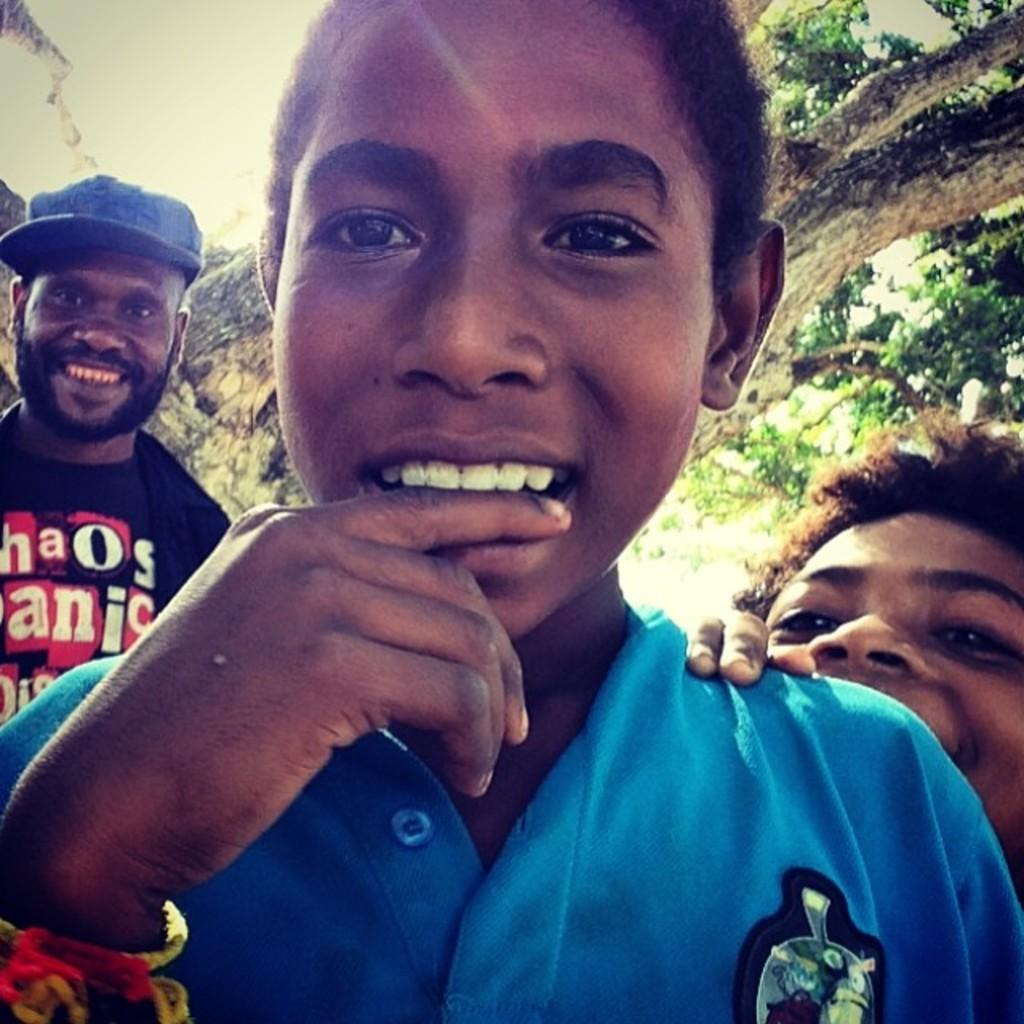Hat: (0, 170, 201, 290)
